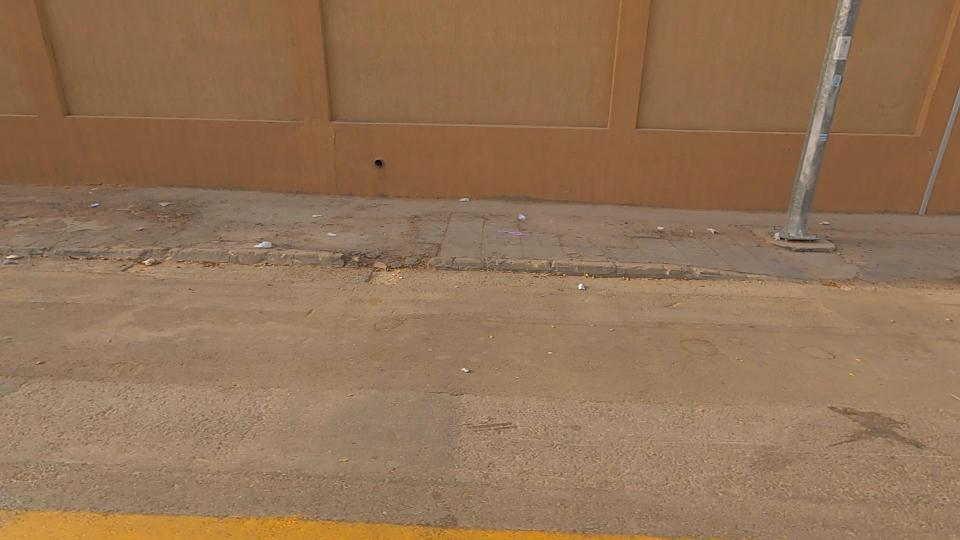GARBAGE: (275, 171, 374, 278), (406, 328, 513, 410), (530, 259, 624, 315), (490, 180, 562, 247), (680, 196, 746, 265), (109, 239, 196, 290), (622, 193, 689, 258), (120, 182, 203, 232), (234, 218, 308, 272), (61, 178, 127, 227), (107, 207, 172, 244), (798, 200, 848, 239)
